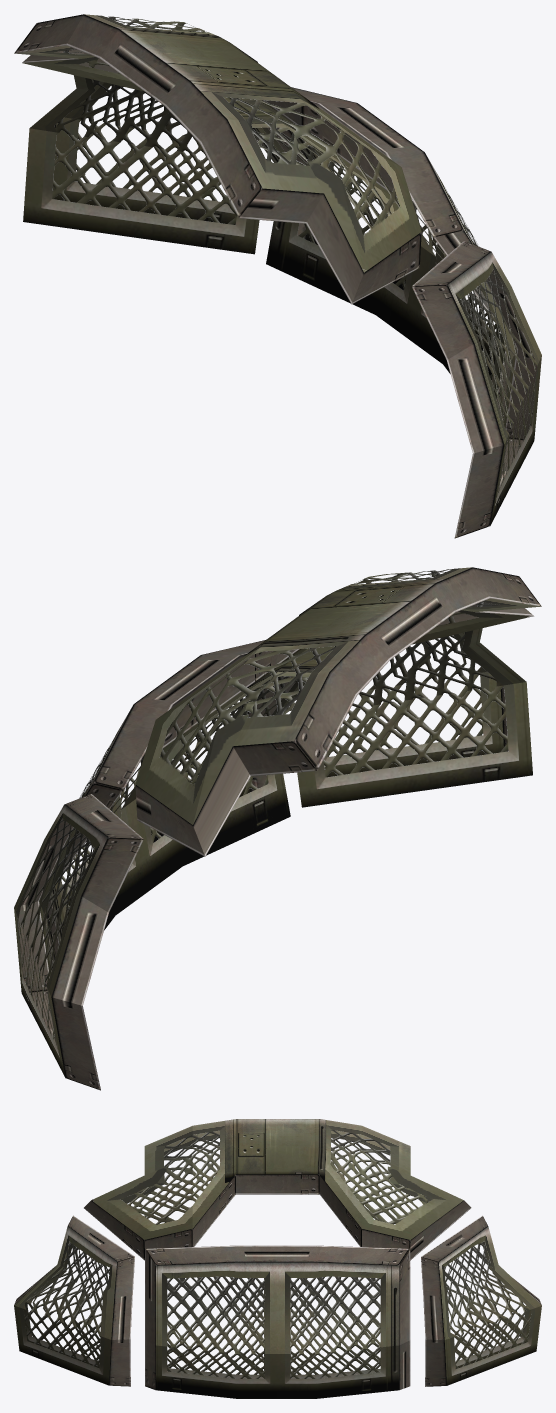
File: medium_unit_shield.obj
3 renders of one model, top to bottom at view 1: azimuth 30°, elevation 25°; view 2: azimuth 150°, elevation 25°; view 3: azimuth 270°, elevation 25°, orthographic. The views are drawn at different scales.
Visible parts, largest first — view 1: polySurface2; view 2: polySurface2; view 3: polySurface2.
Part boxes in pixels (box(x1,y1,x2,y2)): polySurface2: box(14, 14, 541, 538); polySurface2: box(14, 567, 541, 1090); polySurface2: box(14, 1119, 541, 1398).
Bounding box in the file's own units: 10.26 × 10.48 × 24.66.
1 material, 1 textured.
